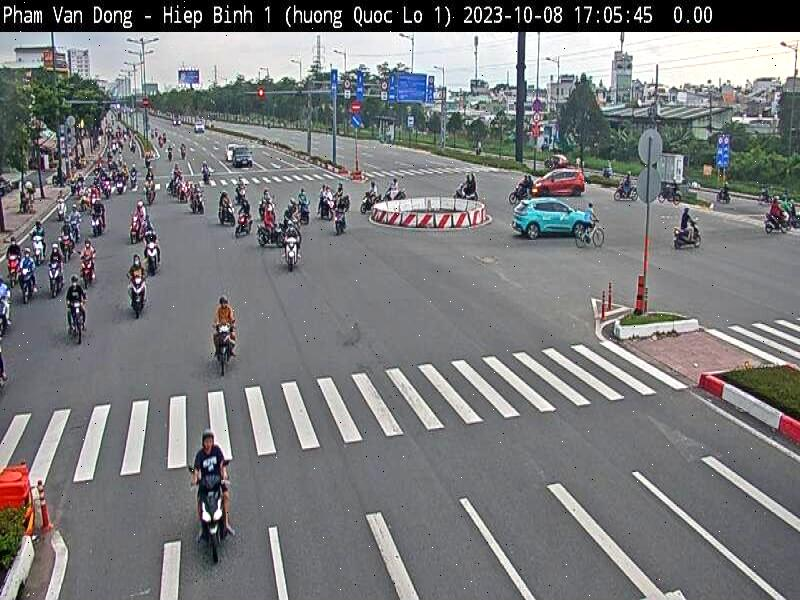car: (510, 197, 594, 245), (532, 165, 590, 198)
motorcycle: (189, 472, 239, 564), (60, 296, 90, 341), (212, 322, 237, 375), (128, 270, 148, 324), (252, 223, 284, 250), (78, 255, 100, 288), (283, 239, 304, 272), (142, 244, 164, 274), (330, 210, 350, 234), (234, 214, 256, 235), (32, 235, 46, 264), (217, 206, 237, 224)
